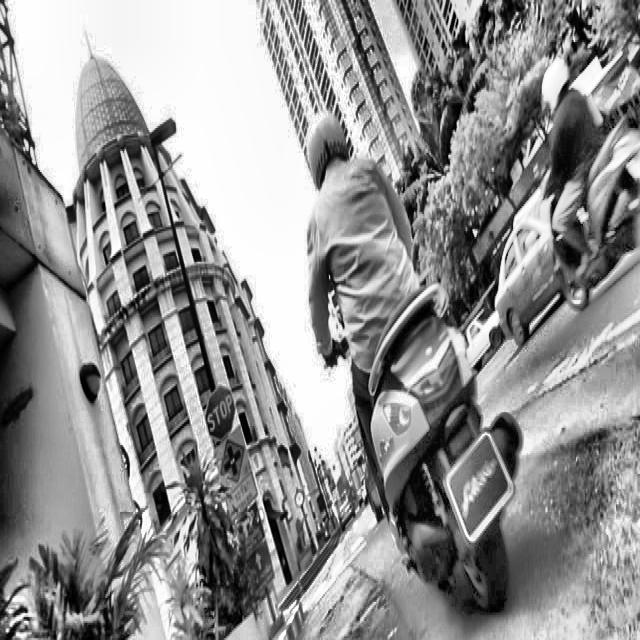Helmet: (294, 81, 357, 206)
